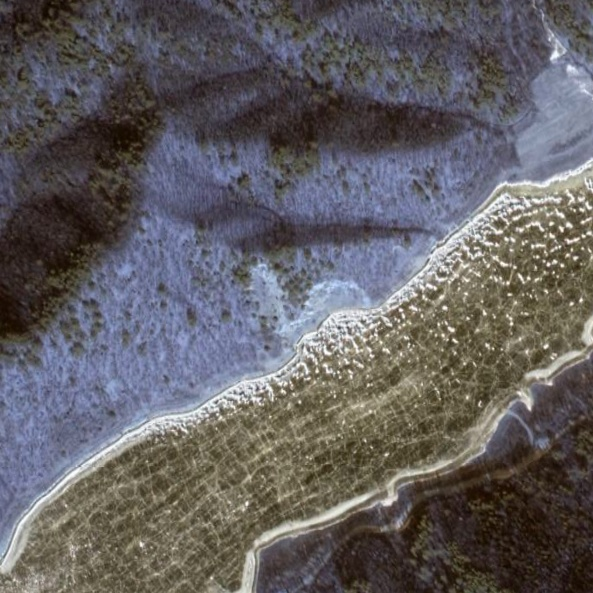slope: (233, 261, 373, 348)
